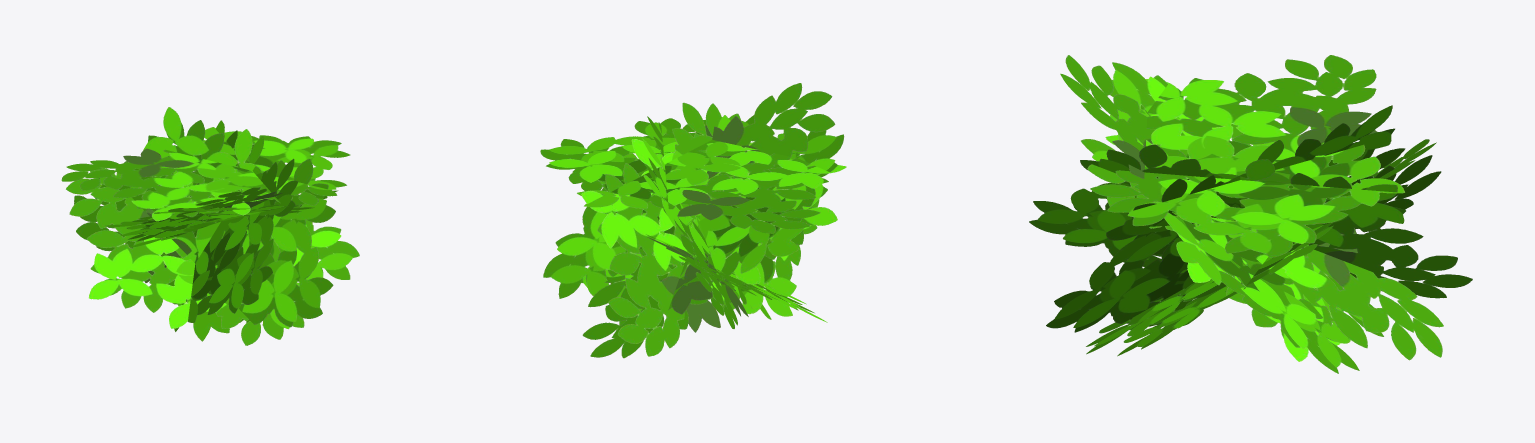
Rendered from SmallTree5.fbx.
3 renders of one model, left to right at view 1: azimuth 30°, elevation 25°; view 2: azimuth 150°, elevation 25°; view 3: azimuth 270°, elevation 25°, orthographic. The views are drawn at different scales.
Visible parts, largest first — view 1: SmallTree5; view 2: SmallTree5; view 3: SmallTree5.
Boxes of the visible parts, x1,y1,x2,y2 form: SmallTree5: (61, 107, 359, 345); SmallTree5: (540, 83, 846, 358); SmallTree5: (1029, 55, 1472, 373).
Size of the model in its own units: 218 by 167 by 189.
